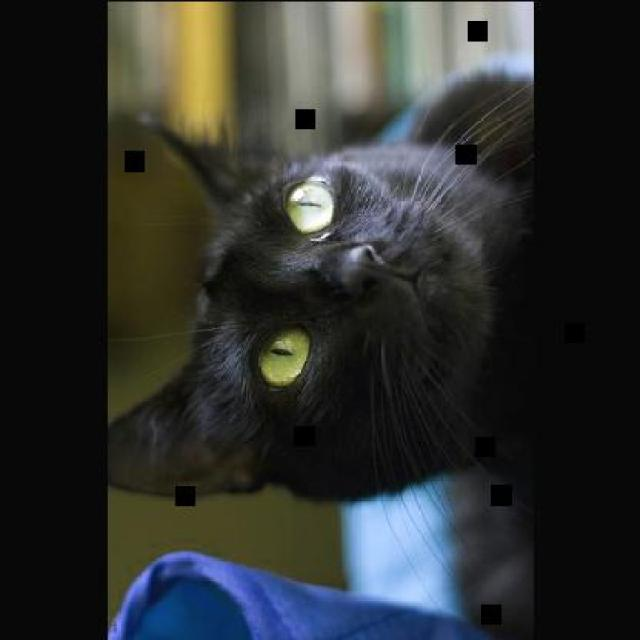unauthorized: (106, 63, 534, 506)
